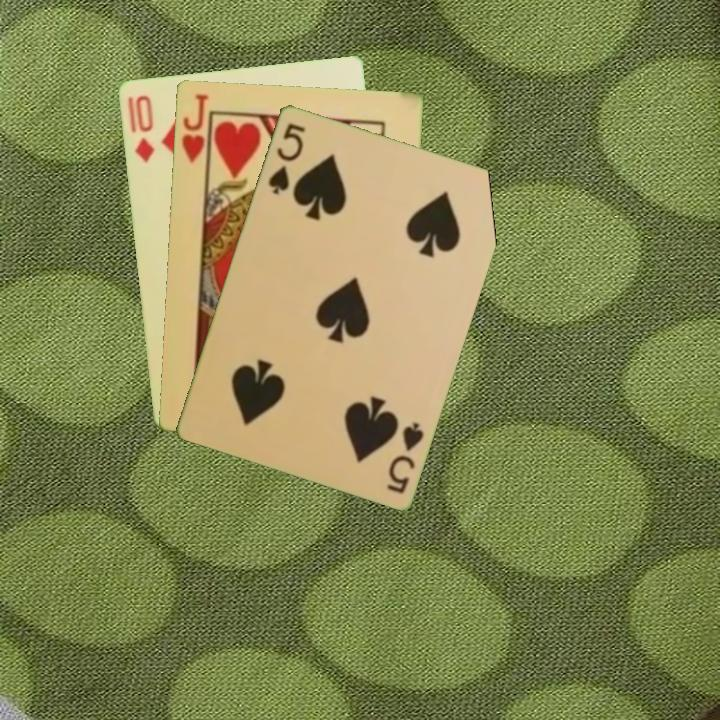10d: (123, 91, 158, 165)
5s: (264, 119, 309, 197), (383, 418, 427, 496)
Jh: (178, 90, 213, 175)
